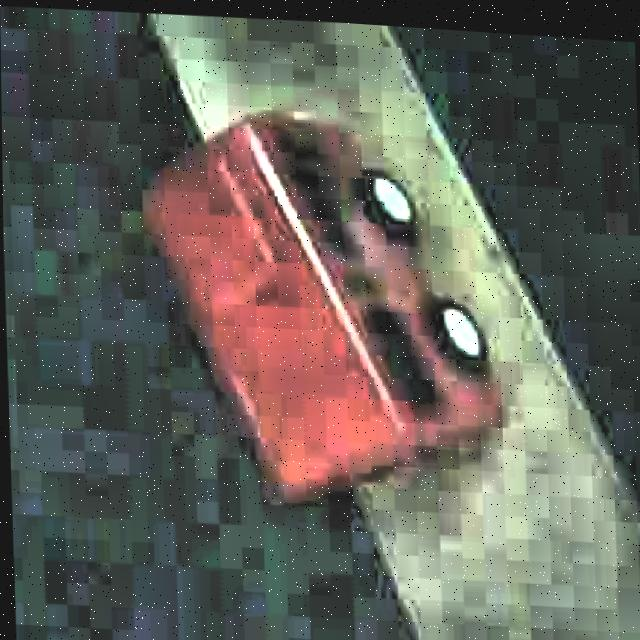bus: (134, 98, 507, 517)
